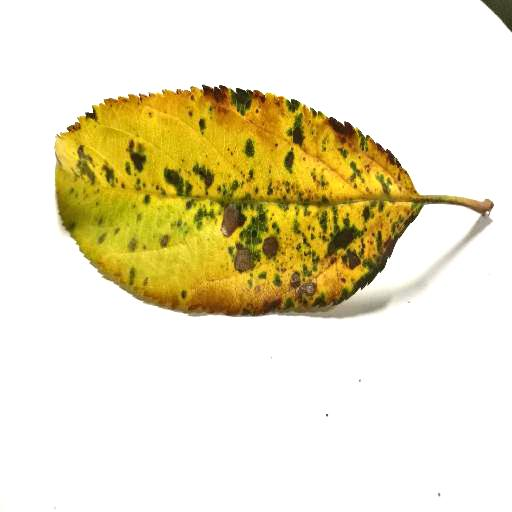Brown_Spot: (72, 133, 373, 272)
